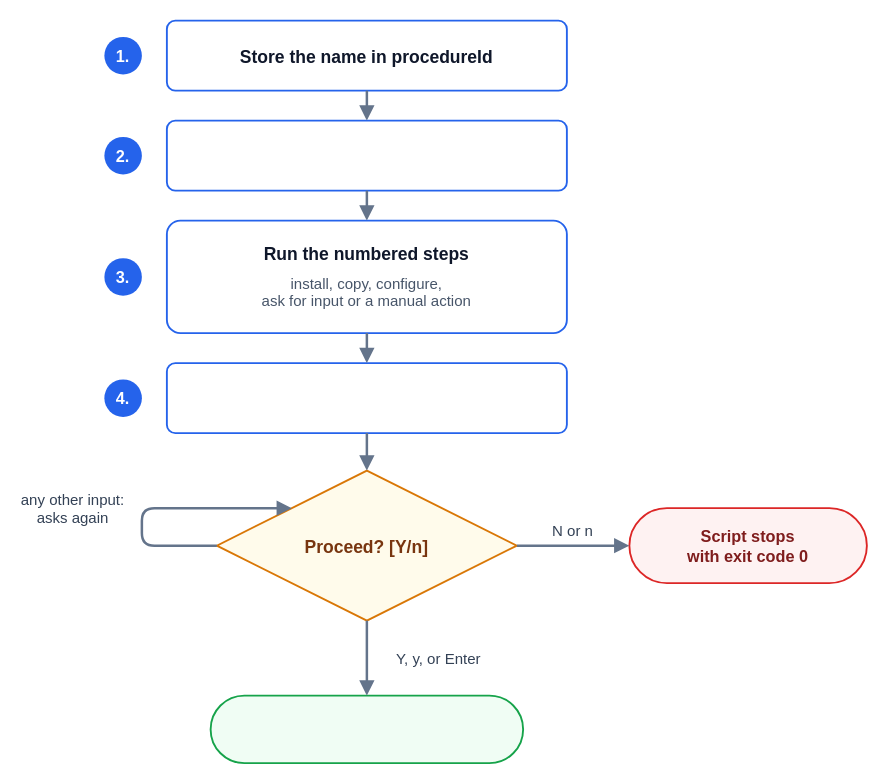
This 888x784 diagram has some shape labels left out. Each missing label, with the box of its shape:
Next procedure starts: (209, 694, 524, 764)
Print PROCEDURE FINISHED: (165, 362, 567, 434)
Print PROCEDURE STARTED: (165, 119, 567, 191)
